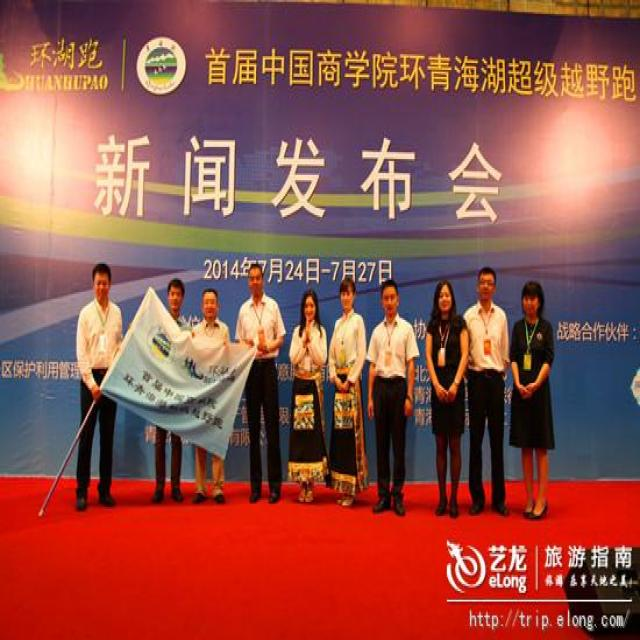non-fight: (71, 259, 127, 514), (364, 278, 418, 514), (234, 271, 286, 504), (507, 280, 558, 516), (424, 280, 471, 516), (325, 277, 368, 506), (285, 290, 331, 492)
